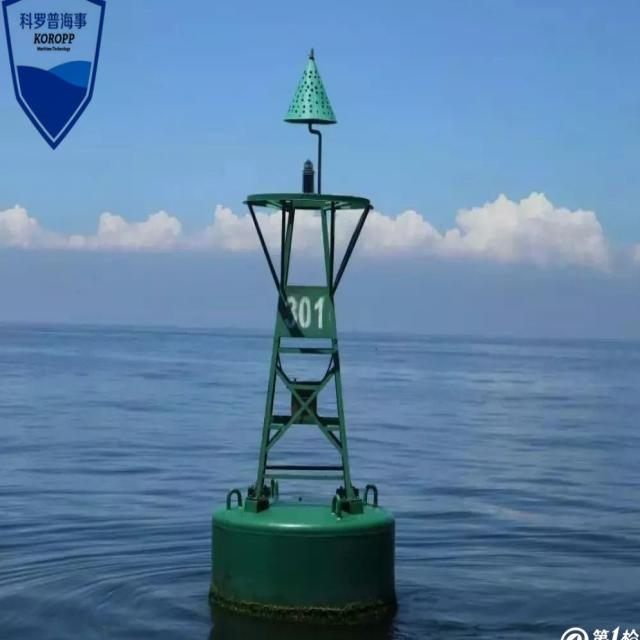buoy: (205, 40, 402, 619)
